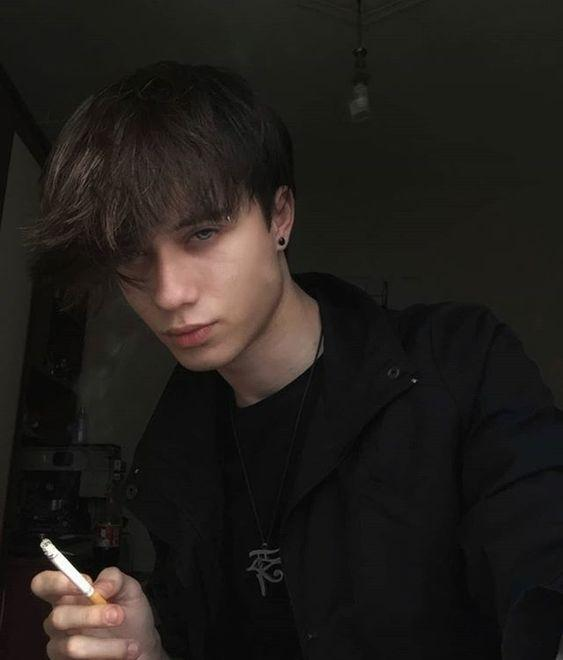cigarette: (40, 538, 107, 605)
